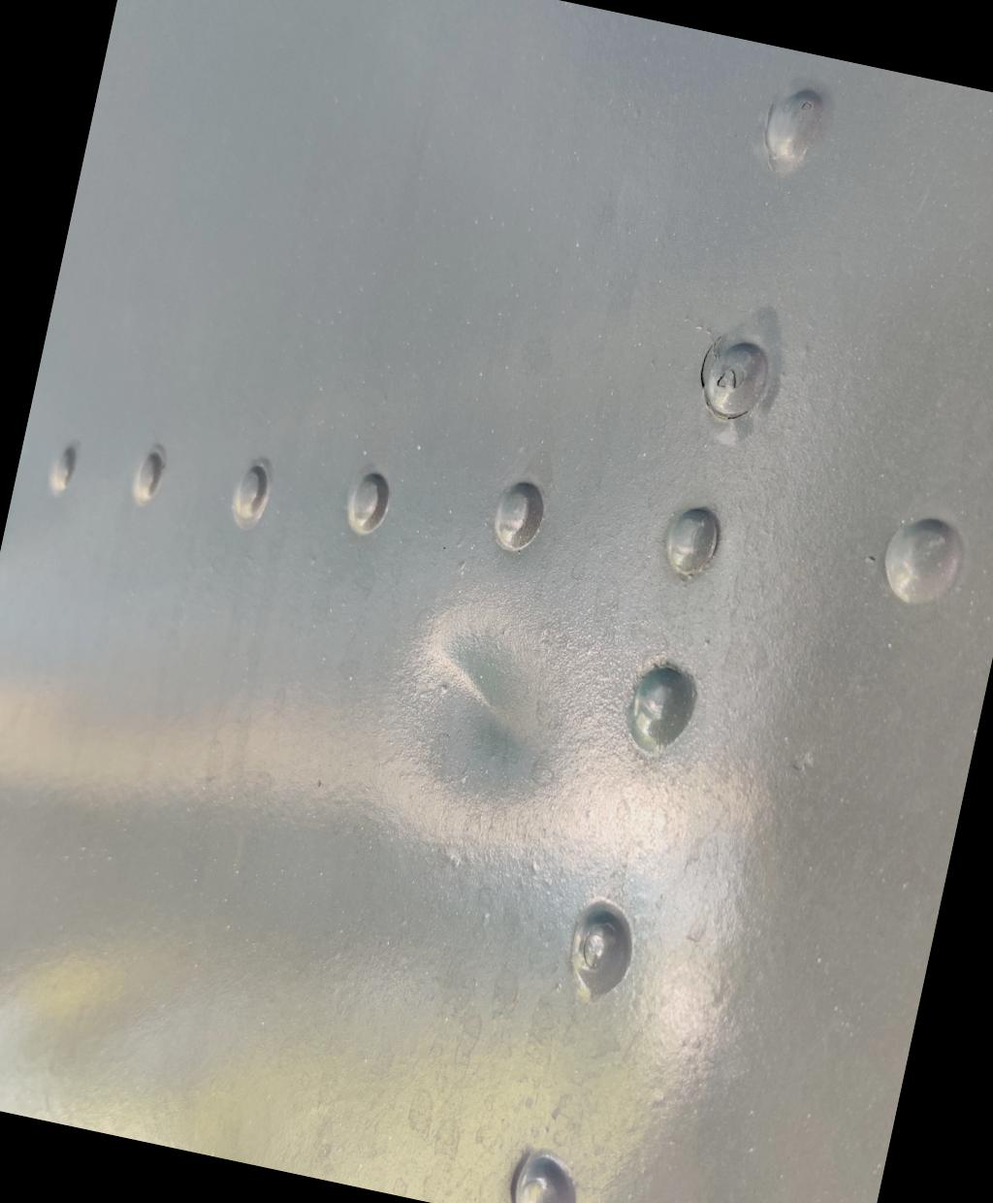dent: (321, 506, 669, 880)
